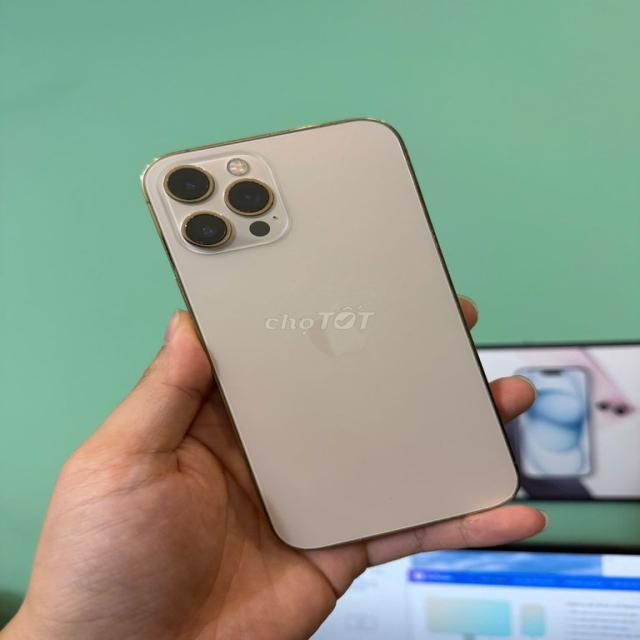gen_12_13: (133, 116, 528, 558)
